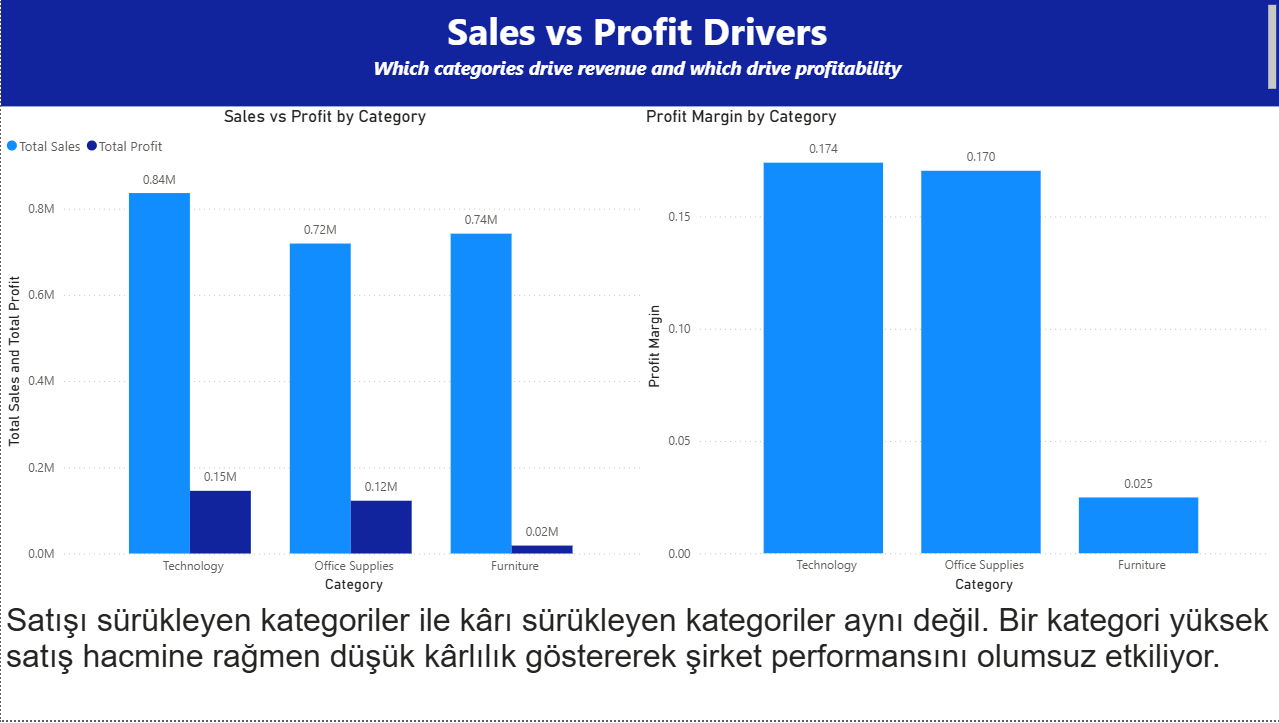

This screenshot's page, from the dashboard's own definition file:
{"tool":"powerbi","page":{"name":"Sales vs. Profit Drivers","canvas":[1280,720],"ordinal":1},"visuals":[{"type":"clusteredColumnChart","title":"Sales vs Profit by Category","fields":{"Y":["Sample - Superstore.Total Sales","Sample - Superstore.Total Profit"],"Category":["Sample - Superstore.Category","Sample - Superstore.Sub-Category"]},"box":[0,106.2,647.9,491],"z":0},{"type":"columnChart","fields":{"Category":["Sample - Superstore.Category","Sample - Superstore.Sub-Category"],"Y":["Sample - Superstore.Profit Margin"]},"box":[639.4,106.2,632.2,491],"z":1000},{"type":"textbox","box":[0,597.2,1280,123.1],"z":1001},{"type":"textbox","box":[0,0,1280,106.2],"z":1002}]}

Visuals, with their boxes in screenshot pixels (x1, y1, x2, y2), scaled from the page's 1280x720 canvas onto the 1279x723 screenshot:
"Sales vs Profit by Category" clusteredColumnChart: [0,107,647,600]
columnChart - Sample - Superstore.Category x Sample - Superstore.Sub-Category: [639,107,1271,600]
textbox: [0,600,1278,722]
textbox: [0,0,1278,107]
